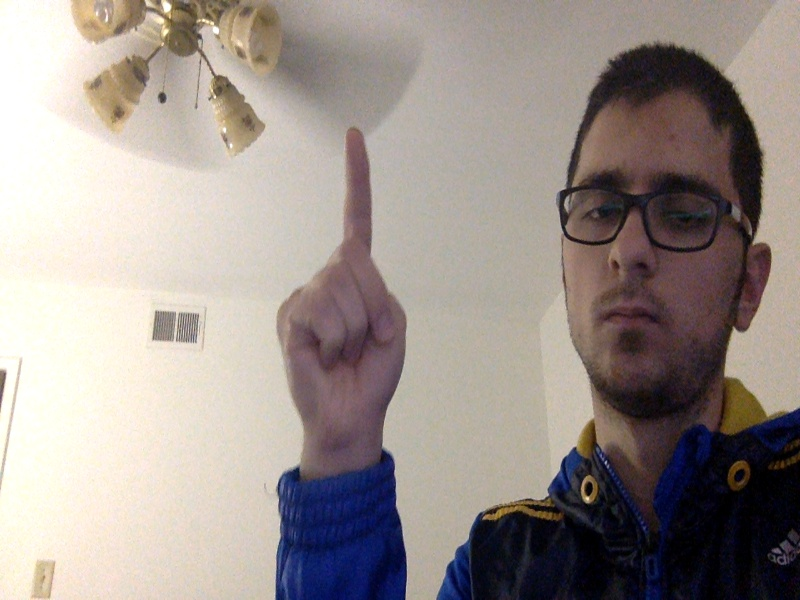1-hand: (277, 129, 407, 459)
